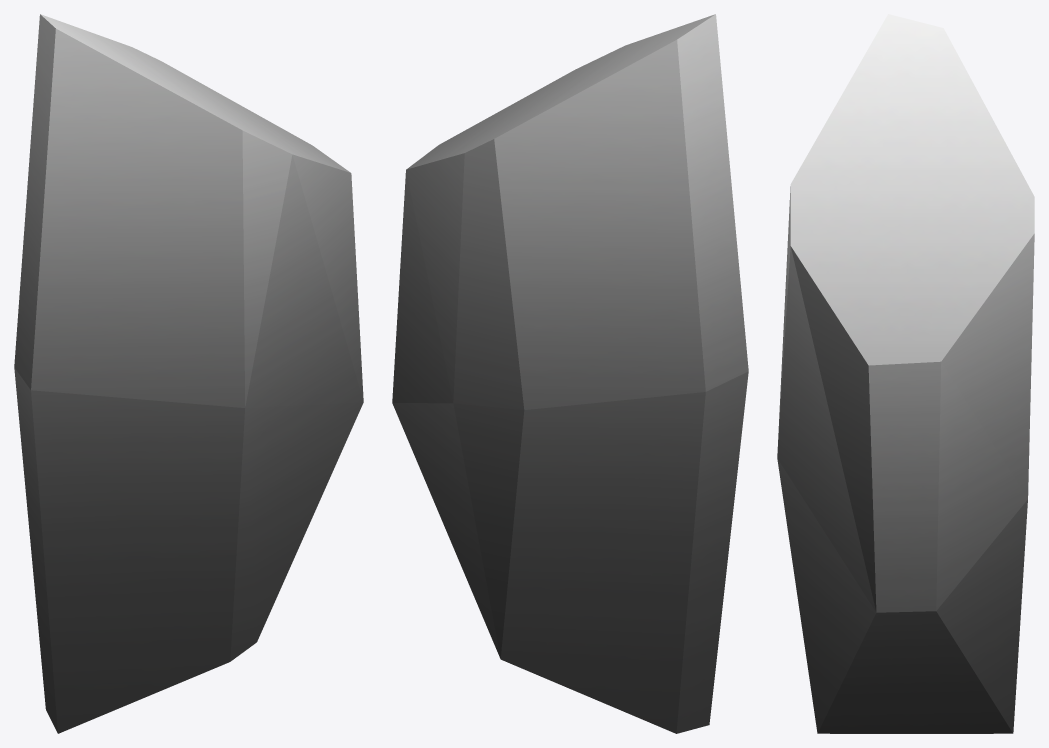
File: CrystalShard_F.fbx
The picture shows the model from 3 angles, left to right: view 1: azimuth 30°, elevation 25°; view 2: azimuth 150°, elevation 25°; view 3: azimuth 270°, elevation 25°; orthographic projection.
Visible parts, largest first — view 1: CrystalShard_F; view 2: CrystalShard_F; view 3: CrystalShard_F.
Part boxes in pixels (<box>): CrystalShard_F: <box>14,14,363,733</box>; CrystalShard_F: <box>392,14,748,733</box>; CrystalShard_F: <box>777,14,1034,733</box>.
Size of the model in its own units: 75.15 by 154 by 49.97.
1 material, 1 textured.
